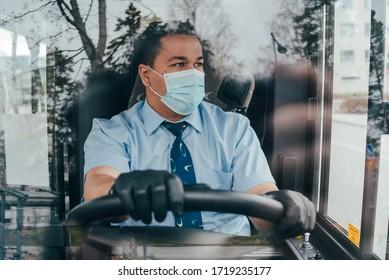gloves: (112, 169, 185, 223), (265, 189, 315, 239)
